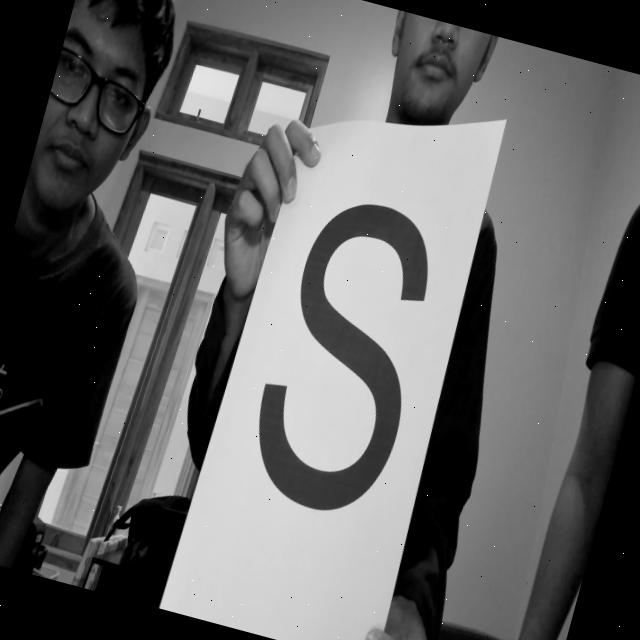s: (204, 161, 478, 585)
